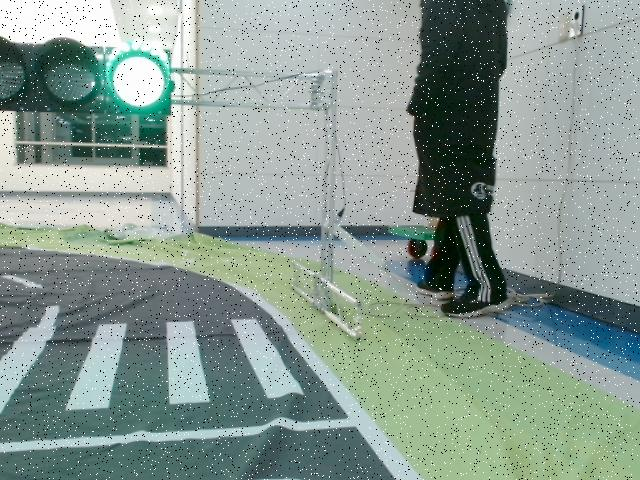crosswalk: (0, 318, 313, 407)
traffic light-green-: (0, 32, 173, 116)
